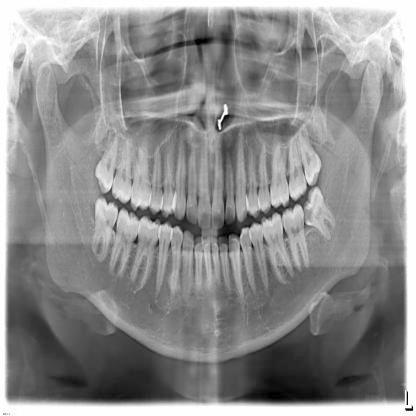Mandible: (36, 59, 385, 363)
Maxilla: (92, 121, 324, 230)
